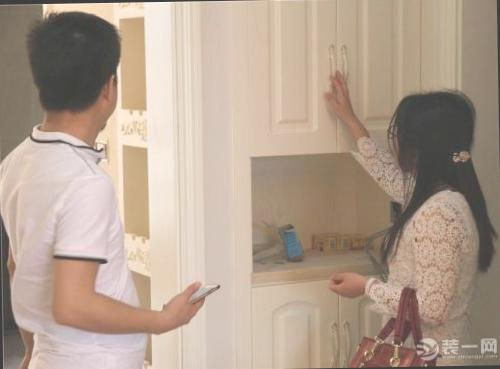no_helmet: (24, 9, 125, 144), (386, 81, 477, 191)
